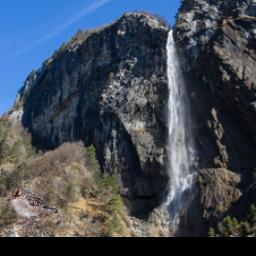Sparrow: (9, 187, 61, 228)
